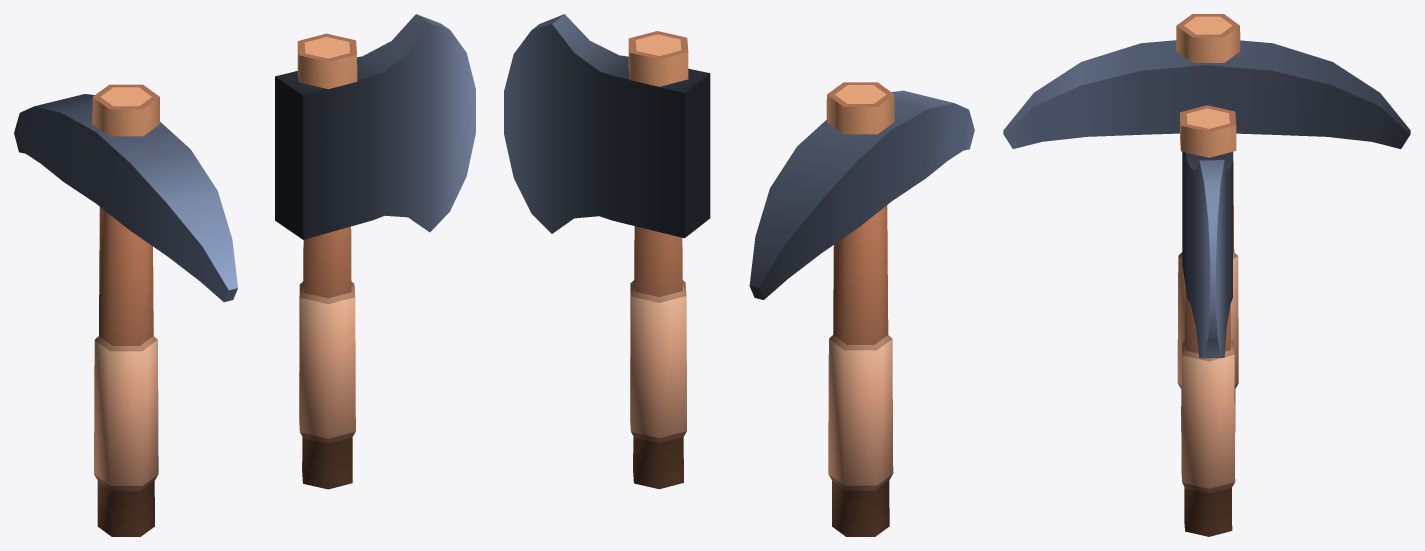
File: axe.fbx
3 renders of one model, left to right at view 1: azimuth 30°, elevation 25°; view 2: azimuth 150°, elevation 25°; view 3: azimuth 270°, elevation 25°, orthographic. The views are drawn at different scales.
Visible parts, largest first — view 1: axe, pickaxe; view 2: axe, pickaxe; view 3: pickaxe, axe.
Boxes of the visible parts, x1,y1,x2,y2 form: axe: (275,14,475,489); pickaxe: (14,84,237,536); axe: (504,14,710,489); pickaxe: (749,82,974,536); pickaxe: (1003,14,1410,432); axe: (1180,105,1236,536).
Bounding box in the file's own units: 109 × 118 × 106.
